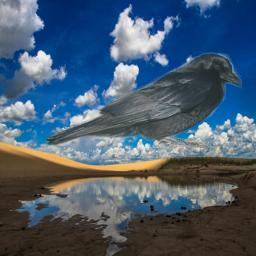Crow: (44, 52, 242, 148)
